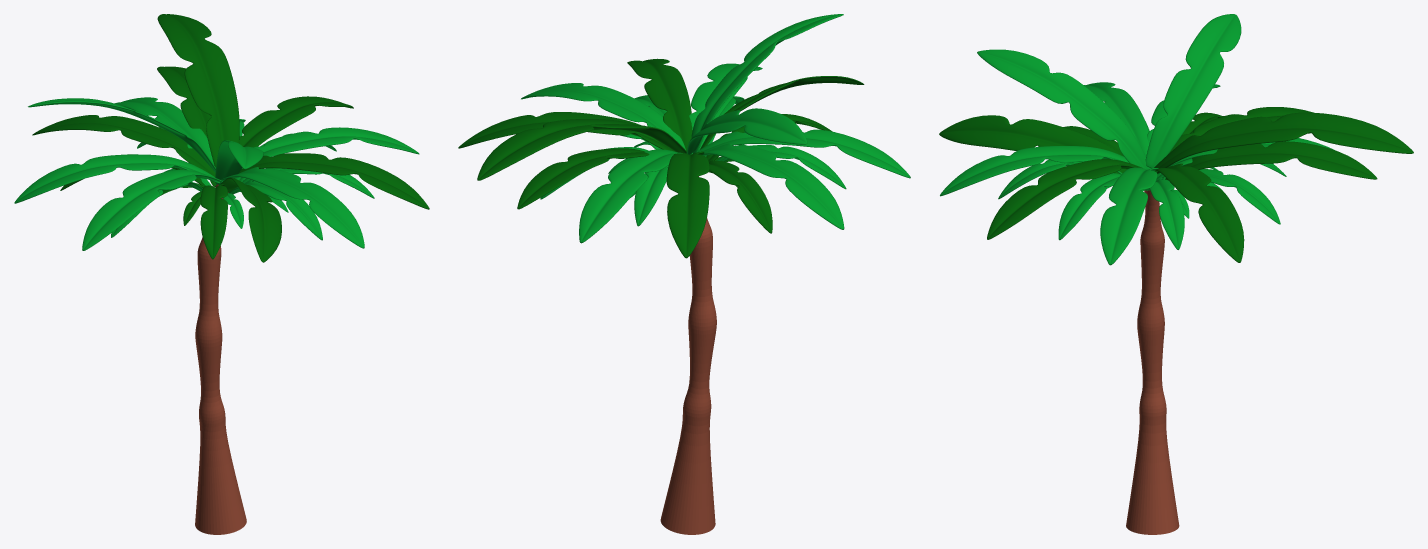
The model's file is _coconut.fbx.
3 views of the same model, side by side, from view 1: azimuth 30°, elevation 25°; view 2: azimuth 150°, elevation 25°; view 3: azimuth 270°, elevation 25° (orthographic). The views are drawn at different scales.
Parts seen in each view (by area): view 1: Plane.003, Vert; view 2: Plane.003, Vert; view 3: Plane.003, Vert.
Part boxes in pixels (<box>): Plane.003: <box>14,14,429,262</box>; Vert: <box>195,184,246,534</box>; Plane.003: <box>458,14,910,258</box>; Vert: <box>660,176,716,534</box>; Plane.003: <box>939,14,1413,265</box>; Vert: <box>1126,190,1179,534</box>.
Bounding box in the file's own units: 5297 × 6237 × 5983.
